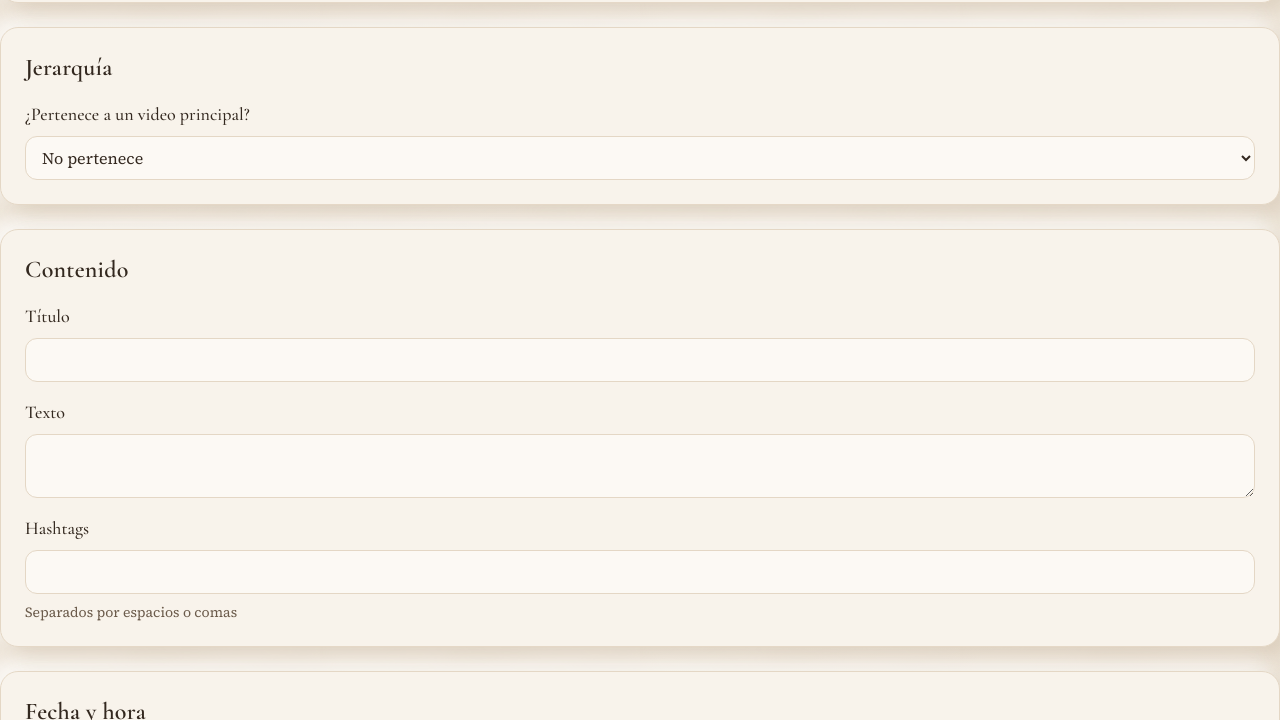
bloquea Programar con errores y los lista
(page scrolled)
Step 1. Type "Hola" into the field labelled "Título" → (640, 360), box [25,338,1255,382]
(page scrolled)
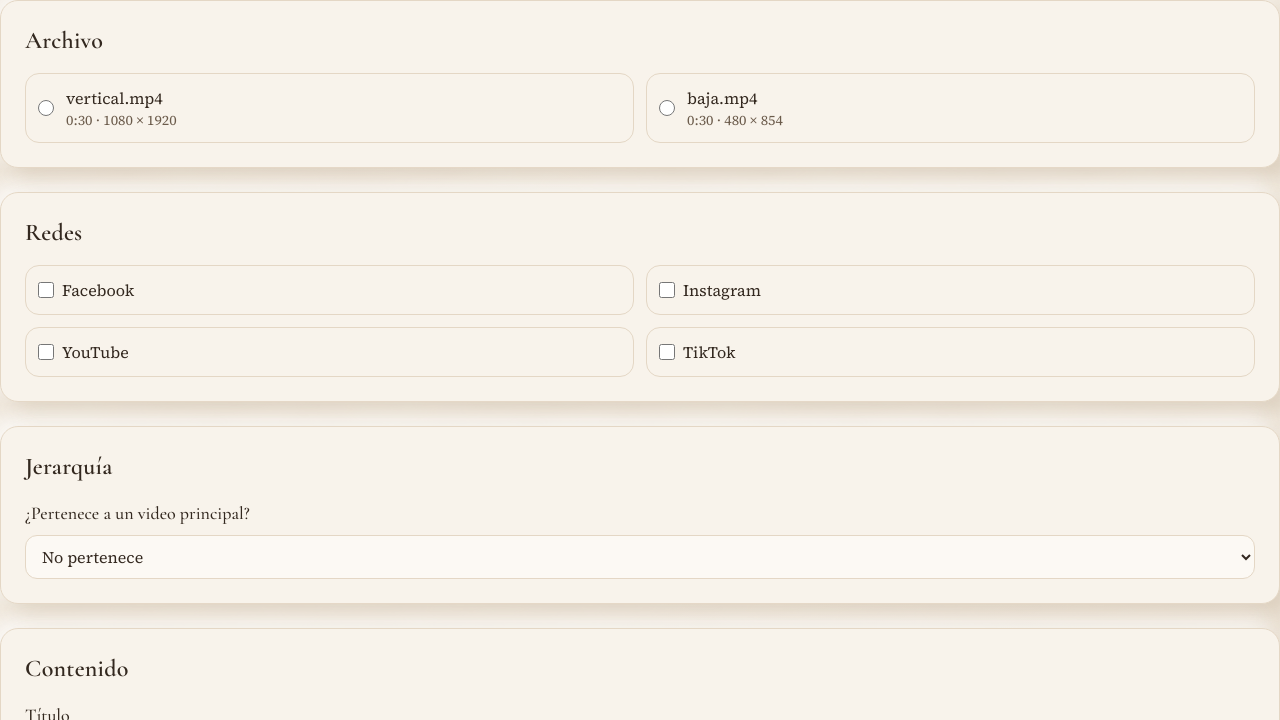
Step 2. Click the radio button labelled "vertical.mp4 0:30 · 1080 × 1920" → (46, 108), box [38,100,54,116]
(page scrolled)
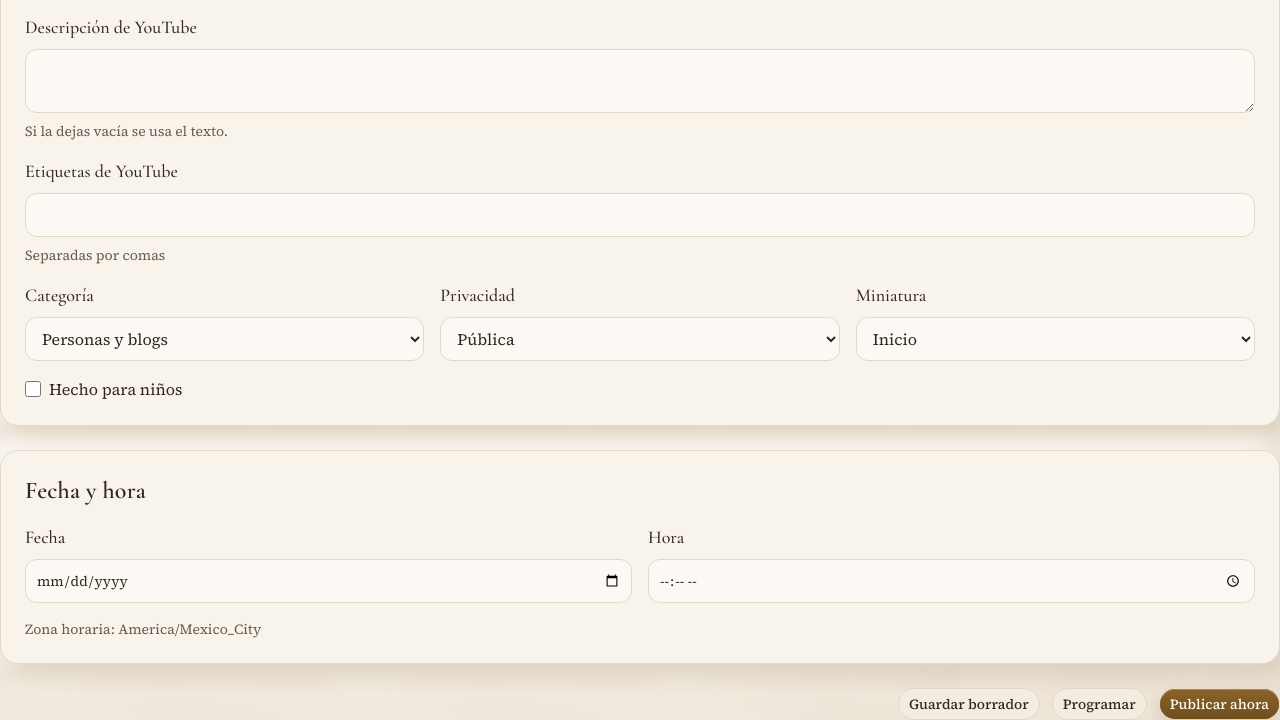
Step 3. Click the button "Programar" → (1099, 704), box [1052,688,1147,719]
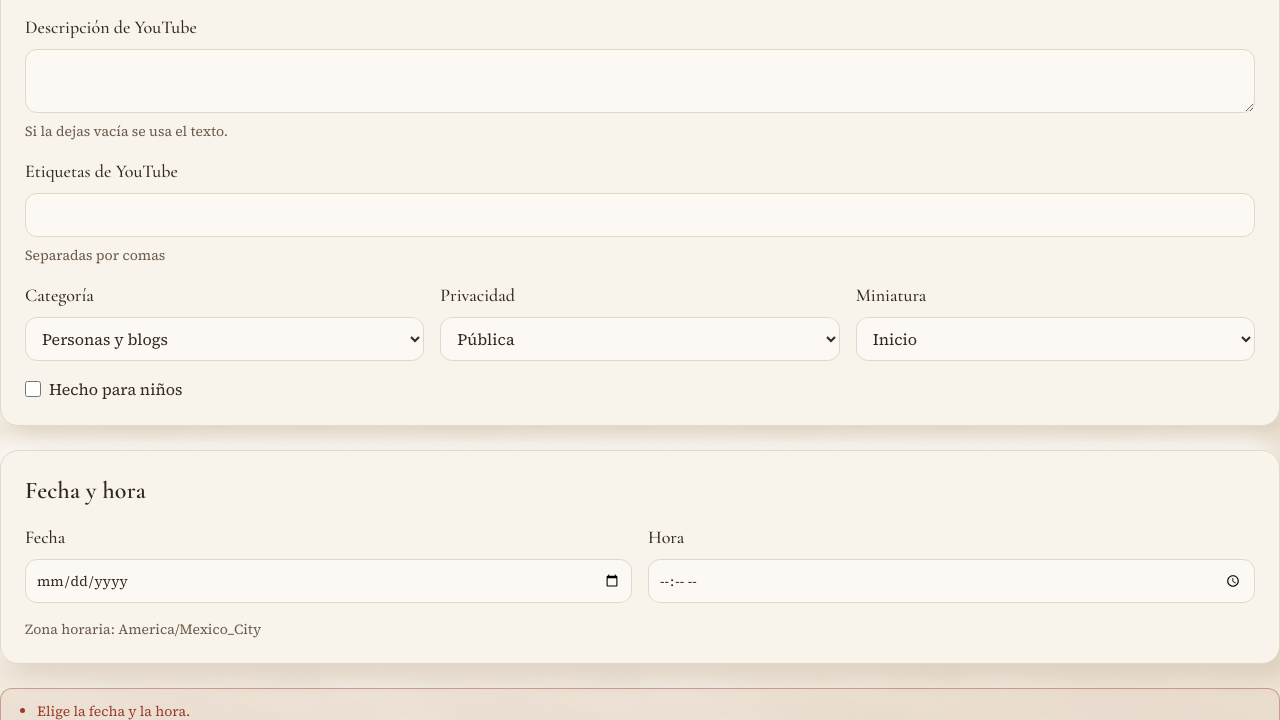
expect the list item "Elige la fecha y la hora." is shown: met, box [37,701,190,719]
